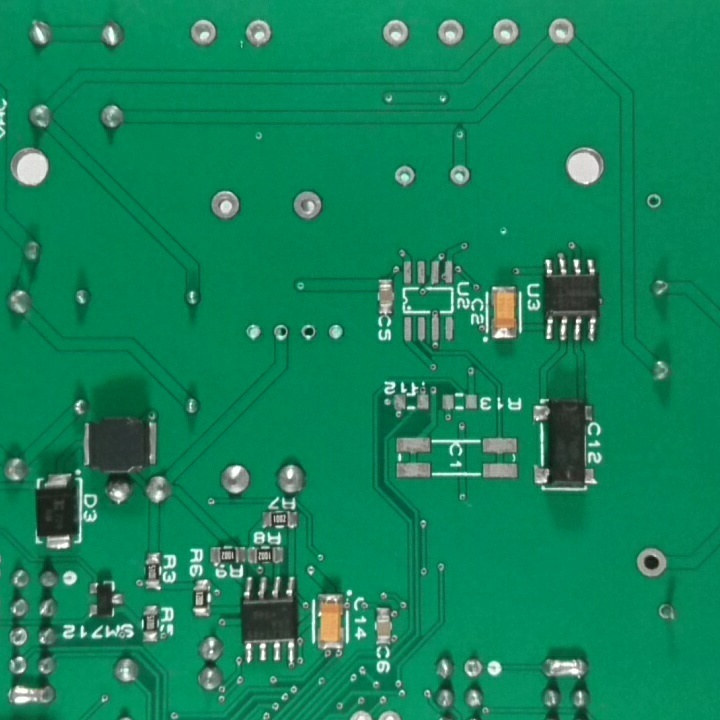F: (290, 187, 328, 226), (633, 544, 673, 580), (242, 16, 276, 52), (209, 189, 243, 223), (546, 14, 579, 49), (435, 17, 469, 50), (187, 15, 219, 49), (491, 16, 523, 49), (382, 15, 410, 49), (444, 161, 475, 190), (394, 161, 420, 190), (653, 598, 679, 626), (460, 657, 487, 679), (7, 627, 30, 649), (242, 320, 263, 342), (299, 320, 318, 342), (644, 190, 664, 210), (328, 322, 347, 343), (273, 321, 290, 343)
P: (6, 679, 62, 709), (540, 655, 589, 680)
